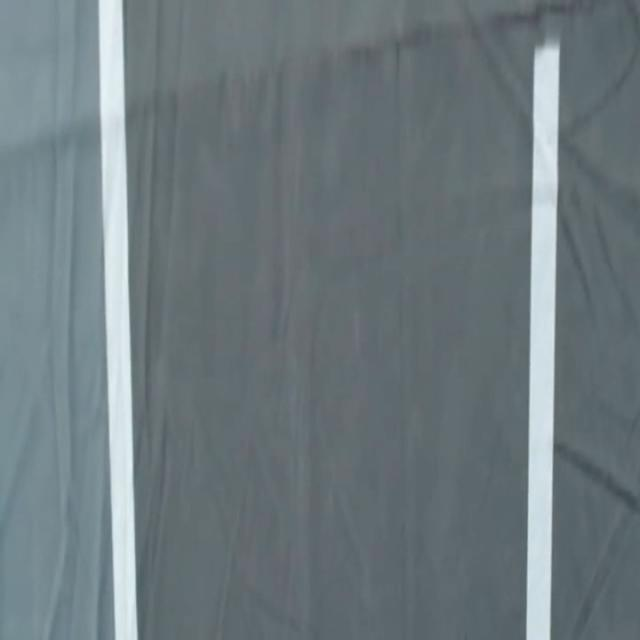center: (526, 35, 559, 639)
left: (99, 0, 136, 639)
